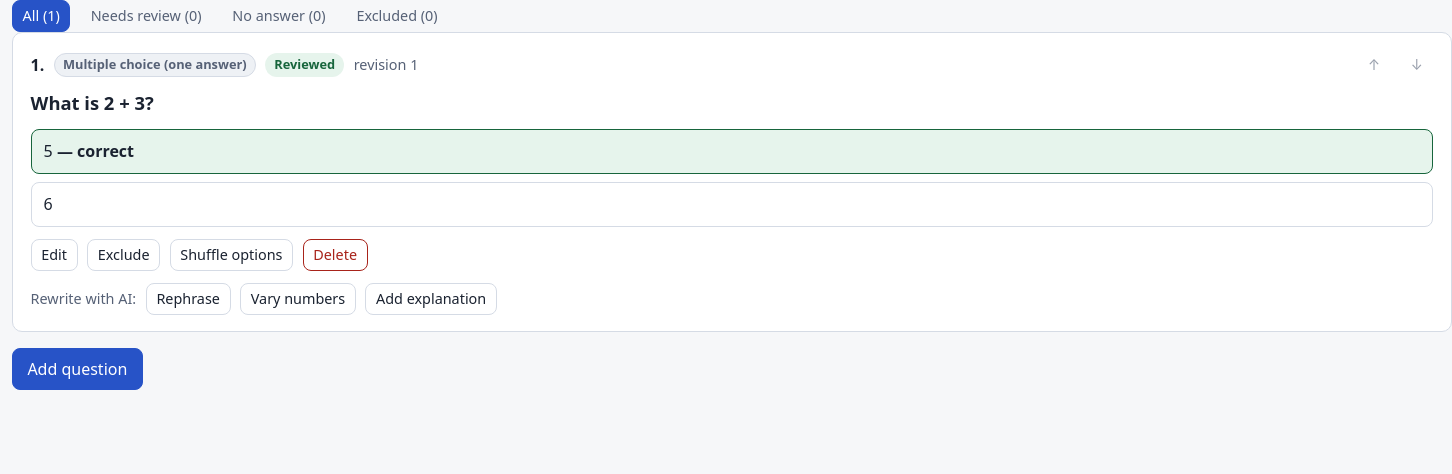
Test: QuestionEditor AI rewriting › shows an AI failure without a proposal
Click the button "Rephrase" at (188, 299), box [146, 283, 231, 315]
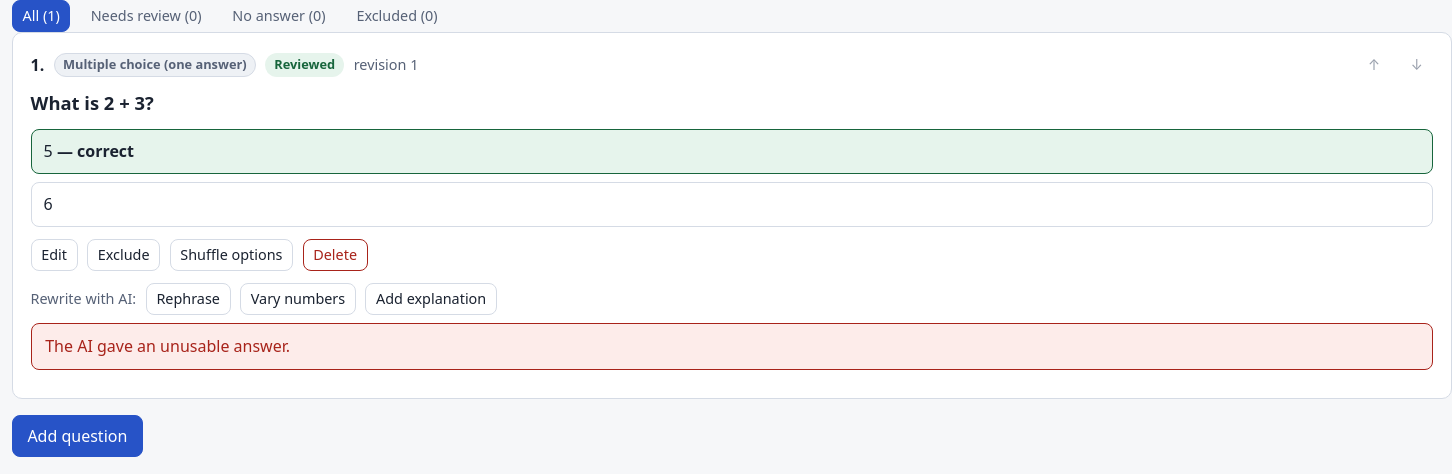
Now the text "The AI gave an unusable answer." is shown, box [31, 323, 1433, 370]
